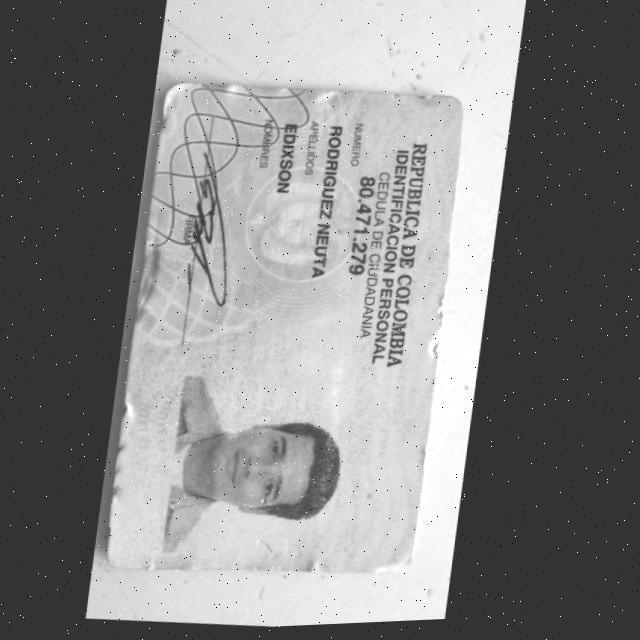card: (108, 84, 463, 572)
